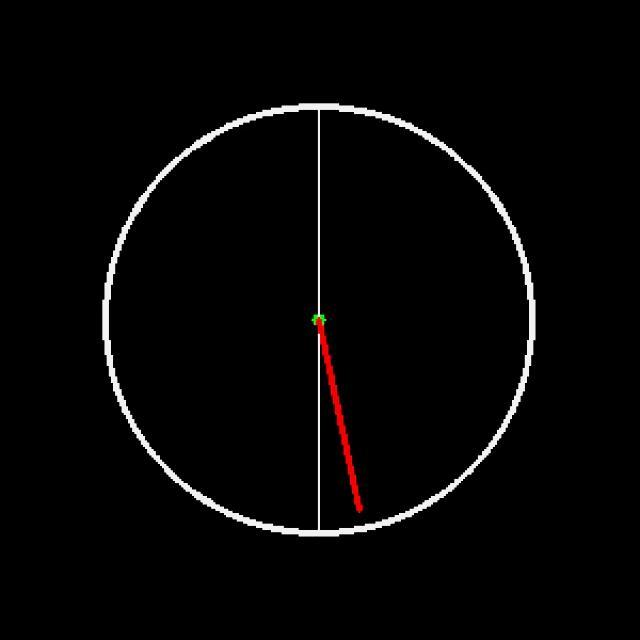Needle_Tip: (333, 486, 379, 527)
Needle_base: (280, 283, 342, 356)
